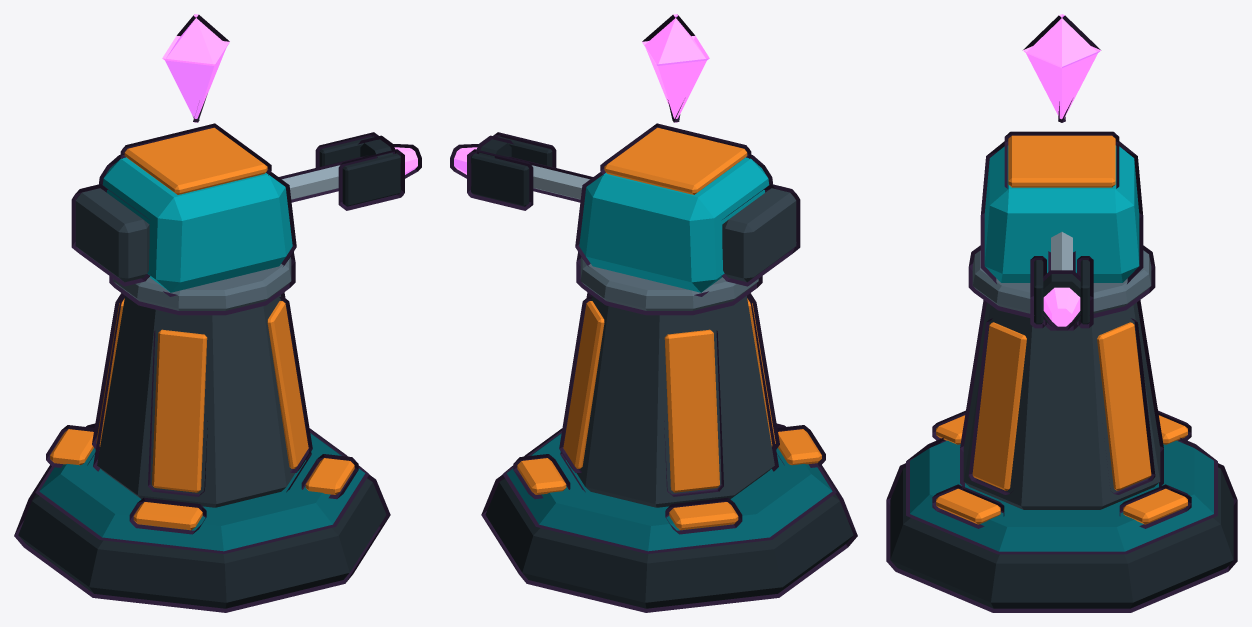
The model's file is LaserTower.glb.
3 renders of one model, left to right at view 1: azimuth 30°, elevation 25°; view 2: azimuth 150°, elevation 25°; view 3: azimuth 270°, elevation 25°, orthographic.
Parts seen in each view (by area): view 1: LaserTower_GAME_Base, LaserTower_GAME_Head; view 2: LaserTower_GAME_Base, LaserTower_GAME_Head; view 3: LaserTower_GAME_Base, LaserTower_GAME_Head.
Part boxes in pixels (bbox=[...]): LaserTower_GAME_Base: bbox=[14, 252, 390, 612]; LaserTower_GAME_Head: bbox=[71, 14, 421, 296]; LaserTower_GAME_Base: bbox=[481, 252, 857, 612]; LaserTower_GAME_Head: bbox=[450, 14, 800, 296]; LaserTower_GAME_Base: bbox=[886, 245, 1237, 612]; LaserTower_GAME_Head: bbox=[980, 14, 1143, 330].
Bounding box in the file's own units: 1.18 × 1.62 × 0.9816.
